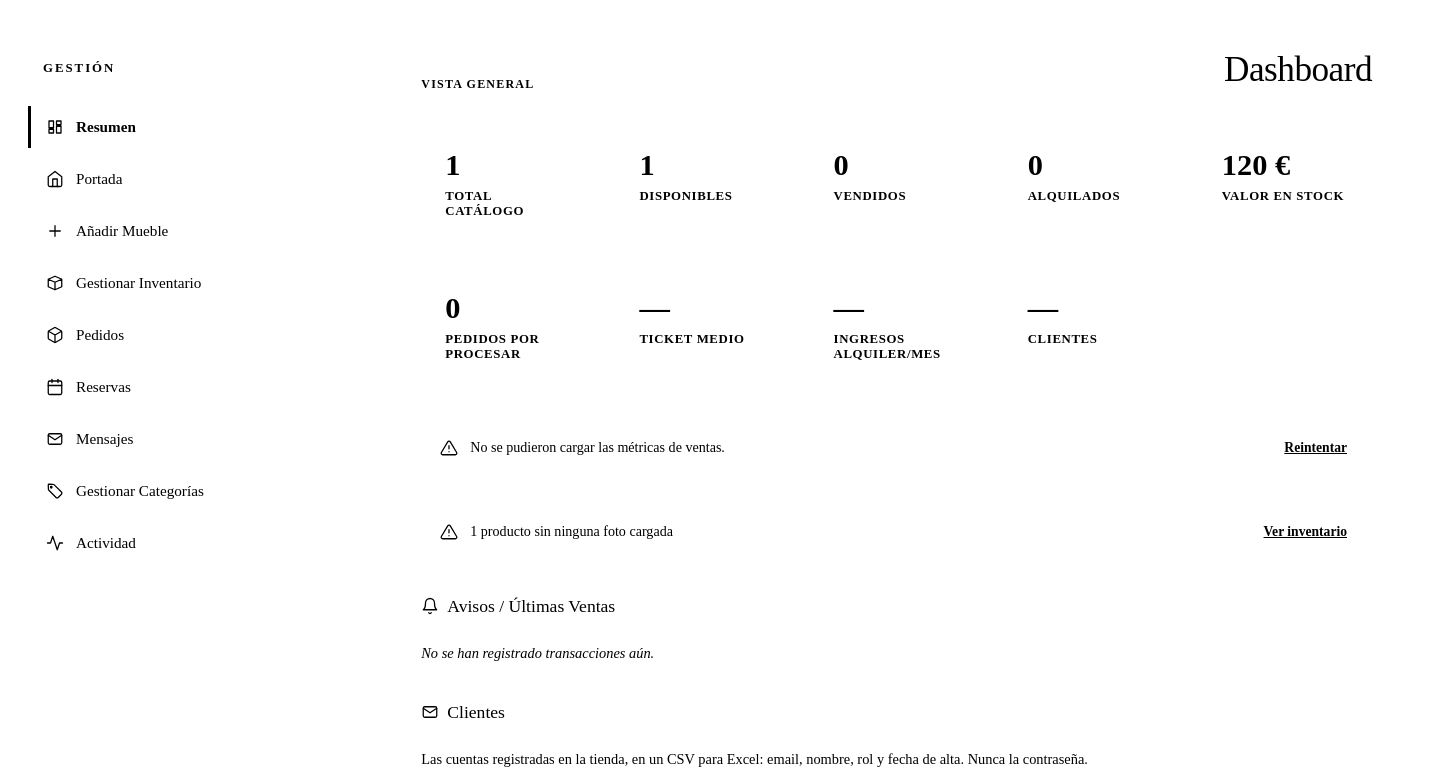
Test case: Panel — pestaña "Reservas" con el interruptor encendido › las demás pestañas siguen funcionando igual
Click the button "Reservas": click(103, 386) left=28, top=366, right=341, bottom=408
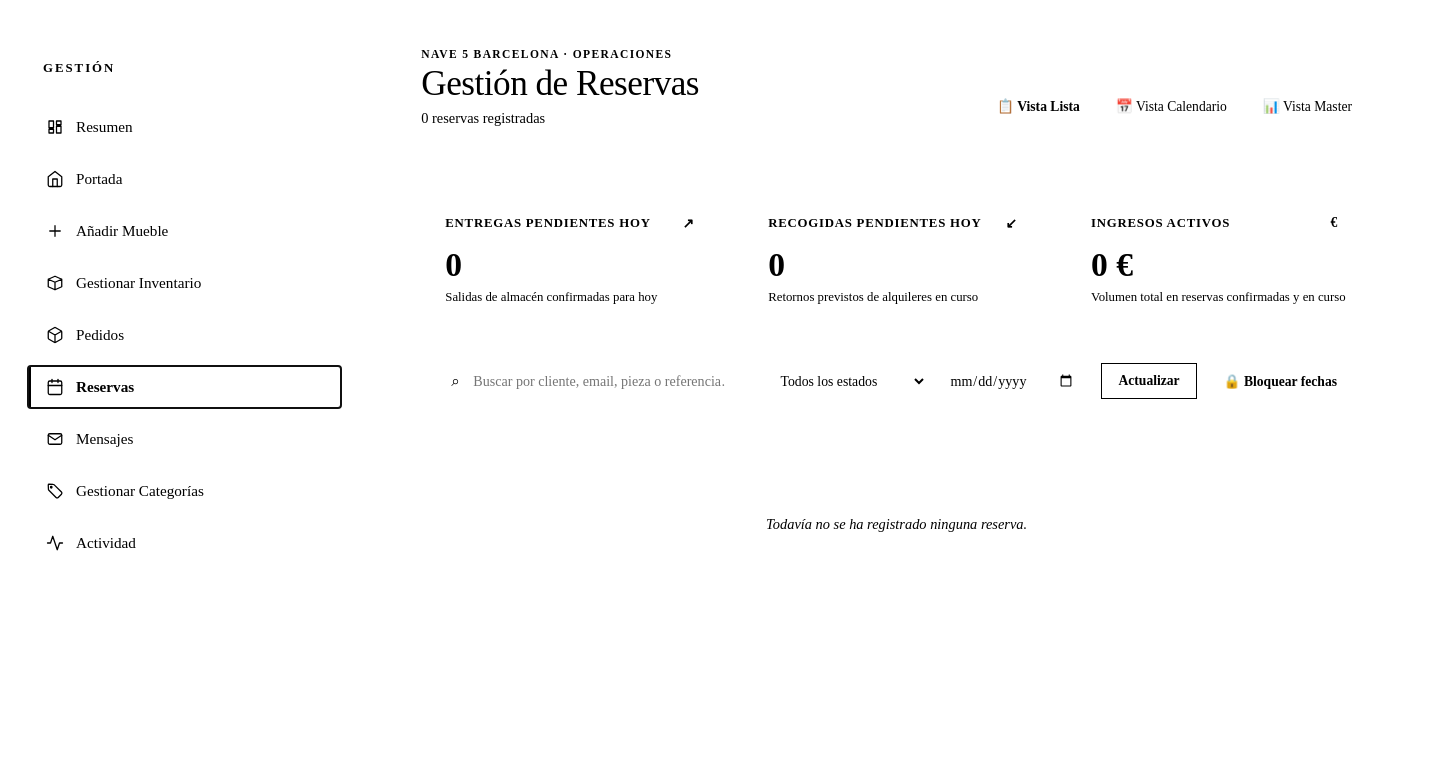
Click the button "Pedidos": click(100, 334) left=28, top=314, right=341, bottom=356
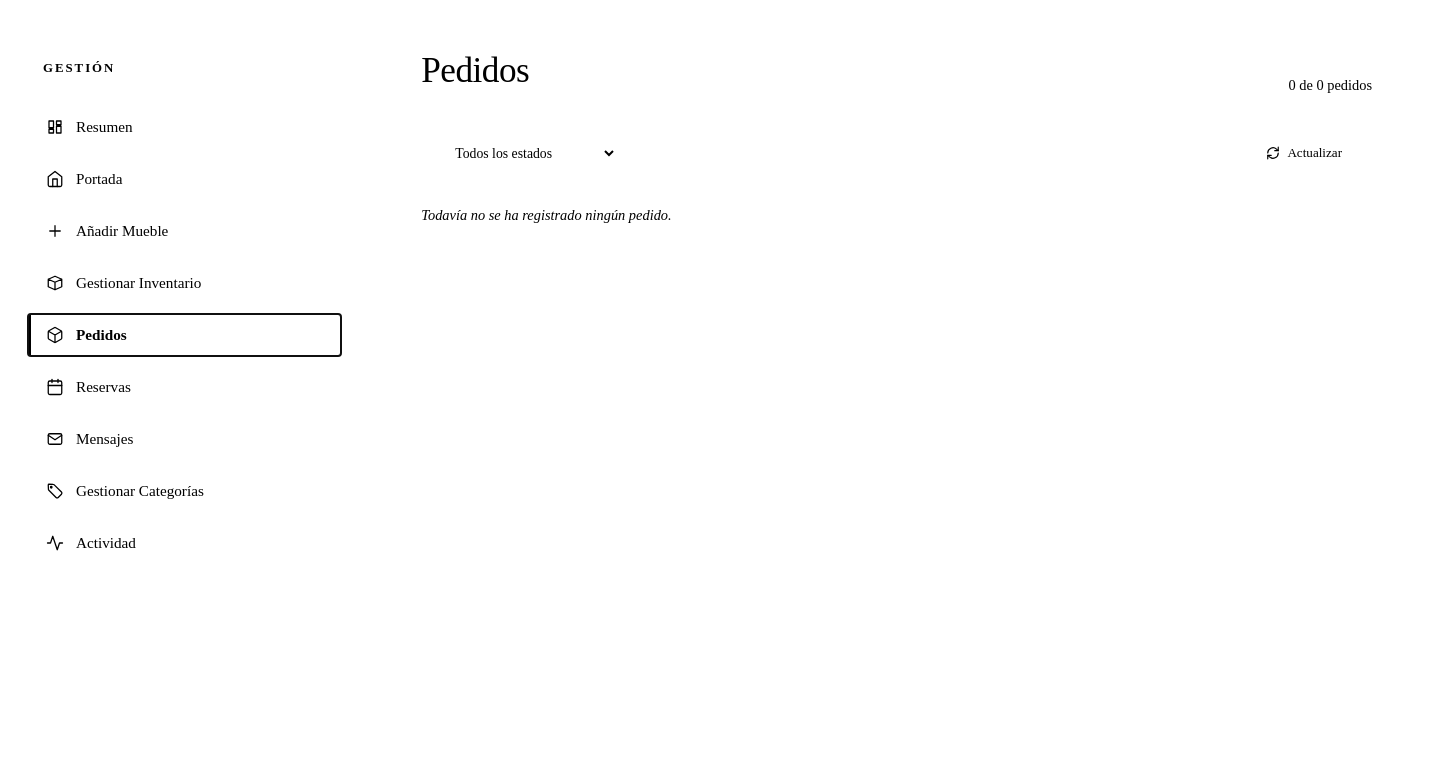
Result: the heading "Pedidos" is shown at left=421, top=48, right=529, bottom=94
Result: the heading "Gestión de Reservas" is gone
